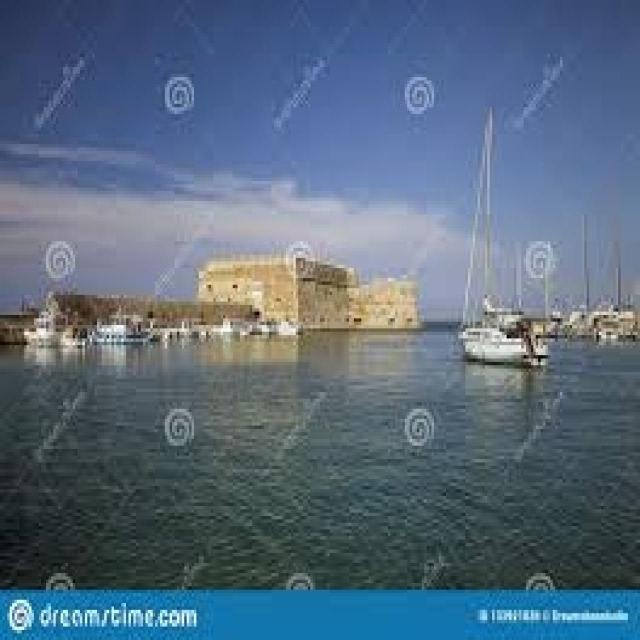Kules: (199, 258, 421, 334)
